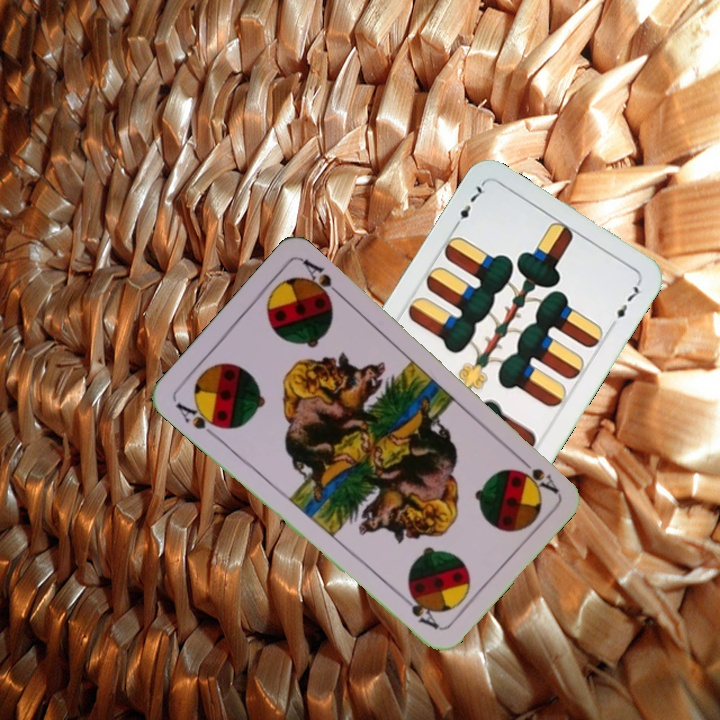E7: (448, 179, 489, 233)
SA: (171, 397, 227, 442), (512, 451, 560, 496)
